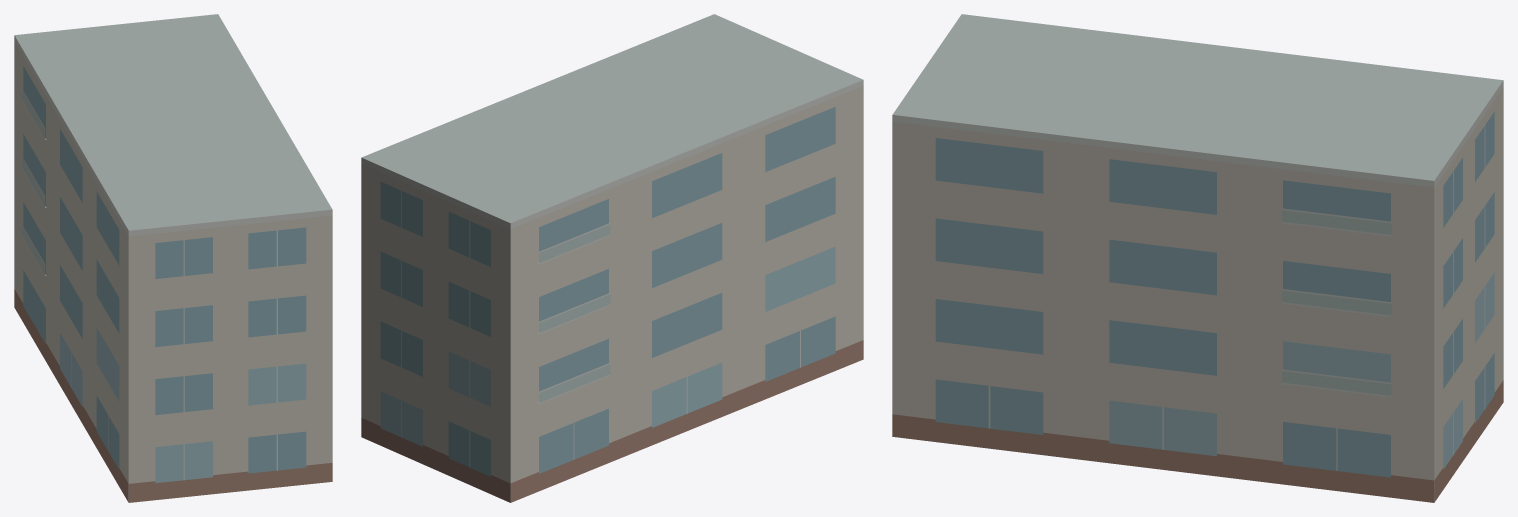
File: survey-upis-32782765.glb
3 views of the same model, side by side, from view 1: azimuth 30°, elevation 25°; view 2: azimuth 150°, elevation 25°; view 3: azimuth 270°, elevation 25° (orthographic). The views are drawn at different scales.
Parts seen in each view (by area): view 1: survey-upis-32782765.tmp; view 2: survey-upis-32782765.tmp; view 3: survey-upis-32782765.tmp.
Boxes of the visible parts, x1,y1,x2,y2 form: survey-upis-32782765.tmp: [14, 14, 332, 502]; survey-upis-32782765.tmp: [361, 14, 863, 502]; survey-upis-32782765.tmp: [892, 14, 1503, 502].
Size of the model in its own units: 13.02 by 11.7 by 20.14.
